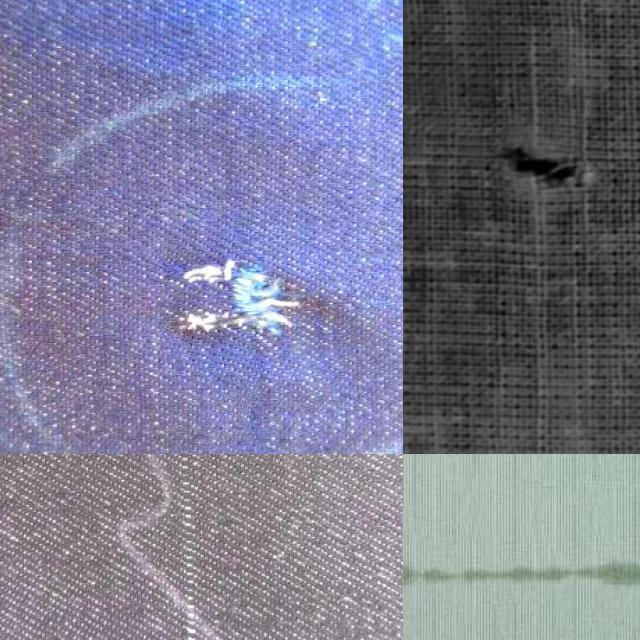Thread_other: (403, 500, 640, 640)
other: (442, 111, 627, 261)
stains: (91, 168, 366, 438), (91, 454, 236, 640)
